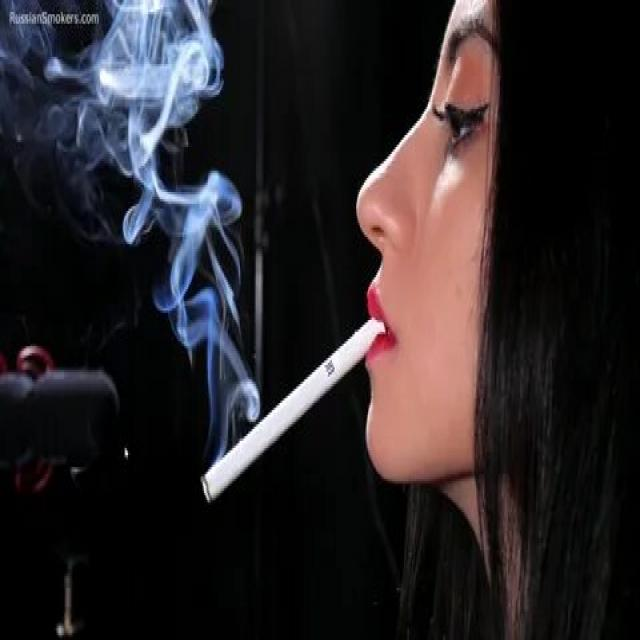smoke: (199, 318, 384, 507)
